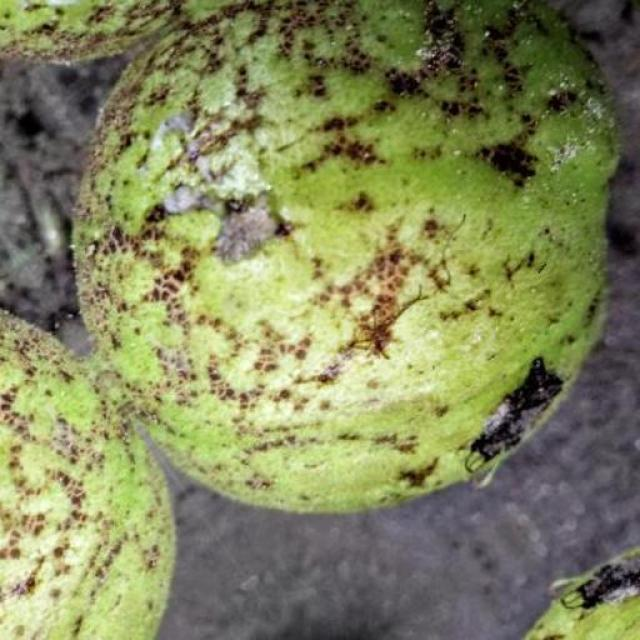Scab: (75, 0, 616, 511), (0, 311, 174, 639)
